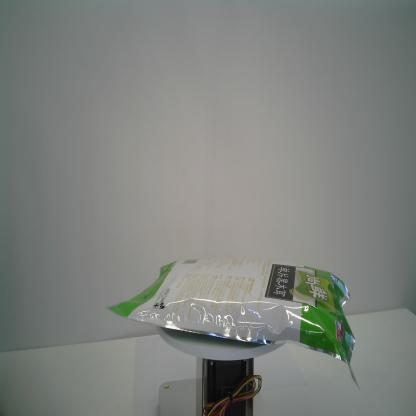Dried Food: (103, 255, 363, 394)
